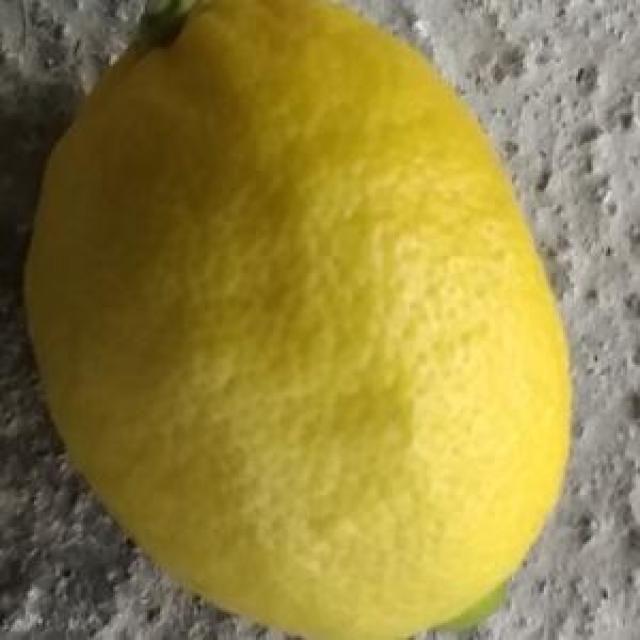lemon: (21, 0, 582, 640)
